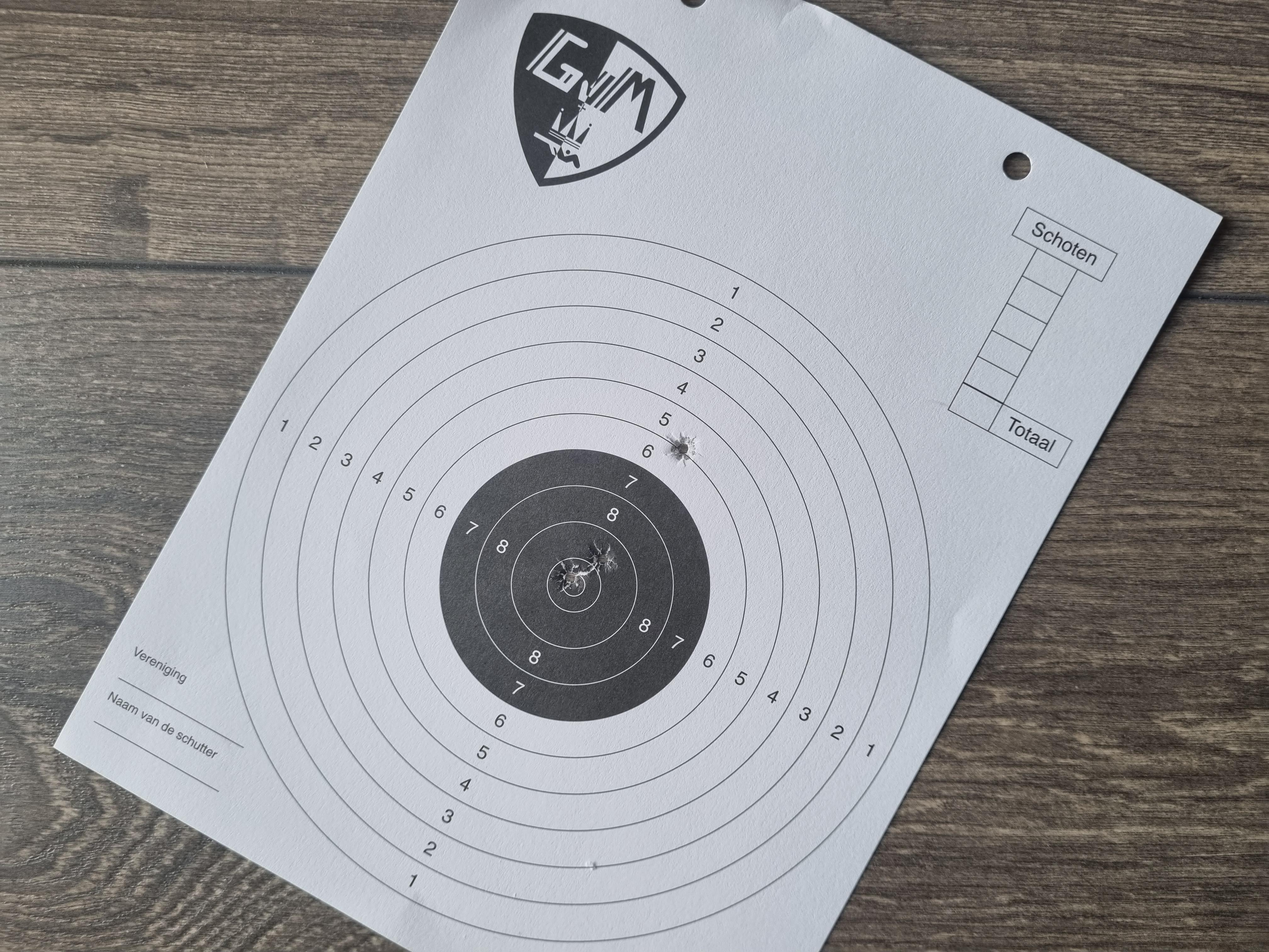hole: (480, 414, 528, 442), (498, 441, 552, 465), (650, 499, 689, 521)
